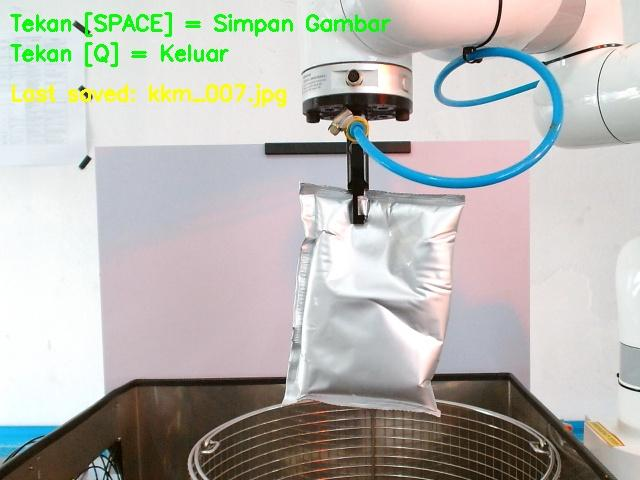retort-pouch: (280, 184, 464, 416)
